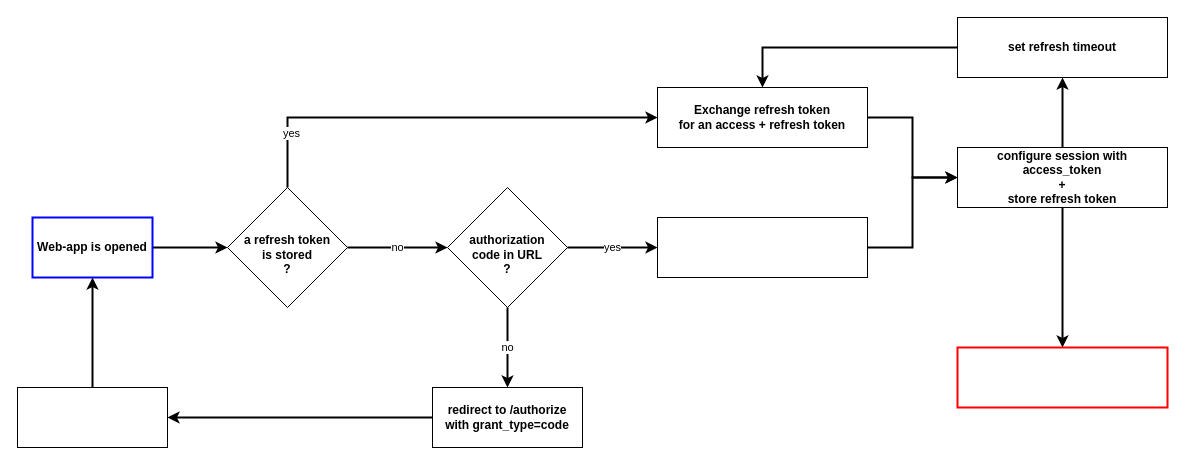
Some shapes in this 1186 by 465 pixel diagram are drawn without their labels. Here are the shapes that lost their labels. From the top down, the centre of each, then its label:
At [762,247]: "Exchange authorization code for an access + refresh token".
At [1062,377]: "Use session with proper access token".
At [92,417]: "end-user submit authorization form".
